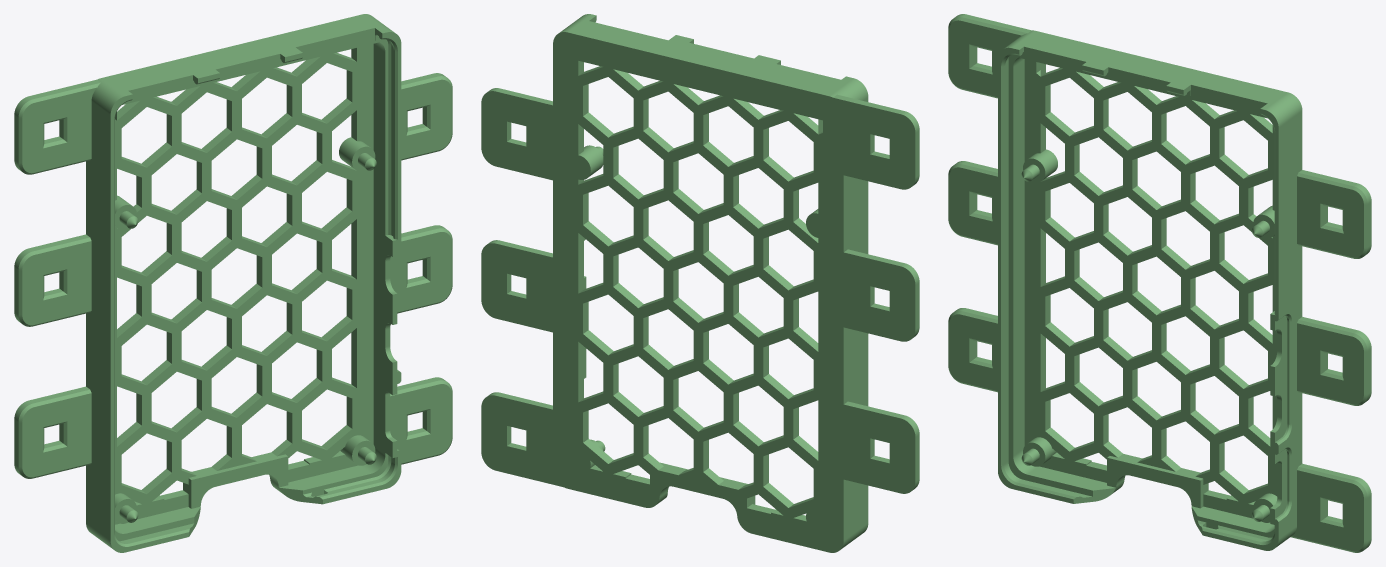
Rendered from other-homeracker-pi5-case-3.glb.
3 views of the same model, side by side, from view 1: azimuth 30°, elevation 25°; view 2: azimuth 150°, elevation 25°; view 3: azimuth 330°, elevation 25° (orthographic). The views are drawn at different scales.
Parts seen in each view (by area): view 1: HomeRacker+-+Pi5+Case.3mf; view 2: HomeRacker+-+Pi5+Case.3mf; view 3: HomeRacker+-+Pi5+Case.3mf.
Part boxes in pixels (x1,y1,x2,y2): HomeRacker+-+Pi5+Case.3mf: [14, 14, 452, 552]; HomeRacker+-+Pi5+Case.3mf: [481, 14, 919, 552]; HomeRacker+-+Pi5+Case.3mf: [948, 14, 1371, 552].
Bounding box in the file's own units: 89.6 × 90 × 8.8.
